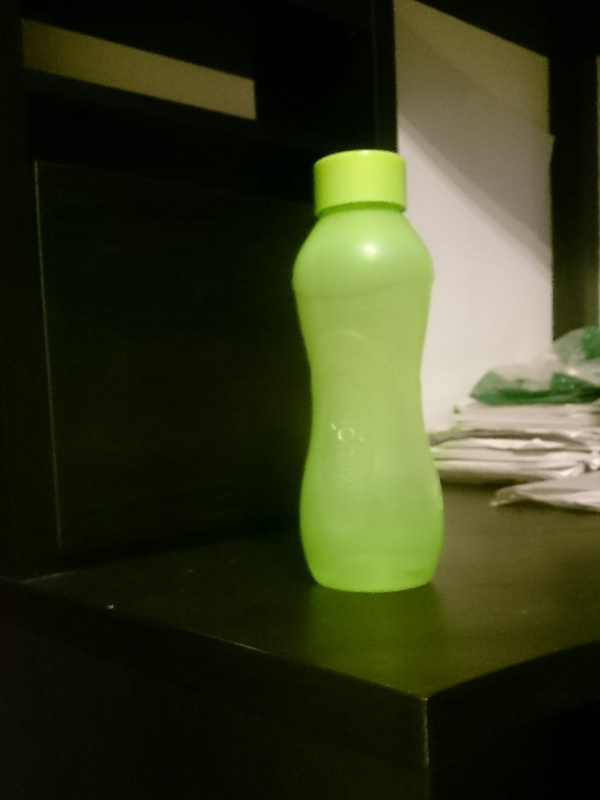my bottle: (297, 149, 441, 598)
